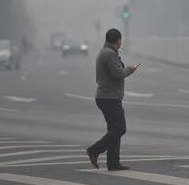person: (84, 27, 140, 171)
